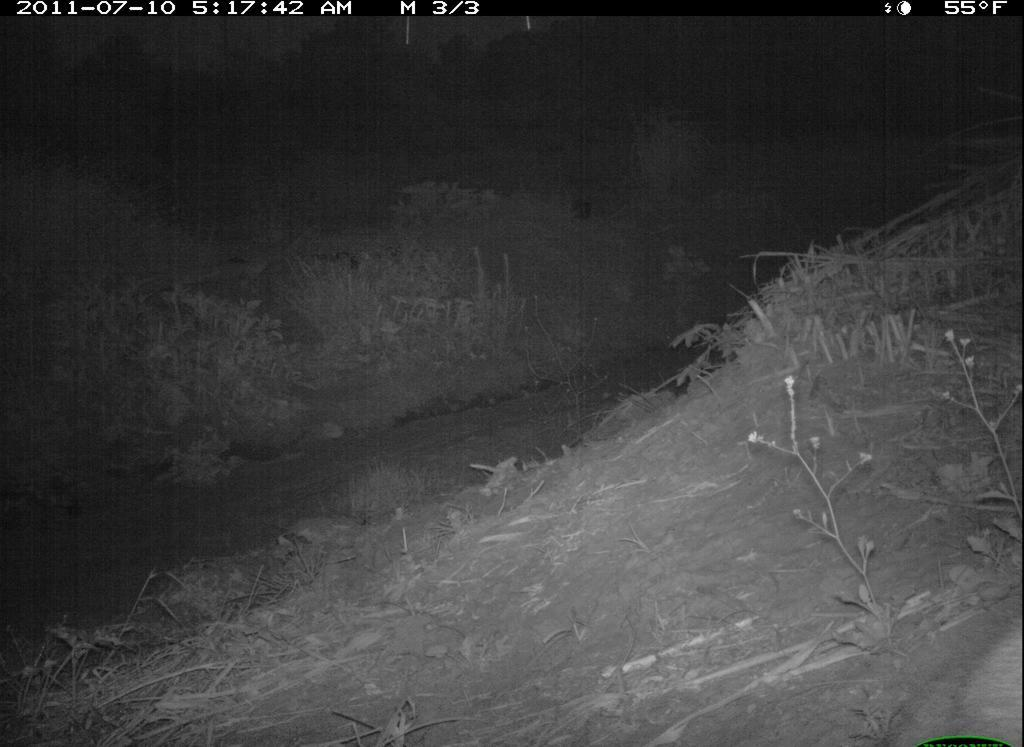raccoon: (879, 602, 1023, 747)
